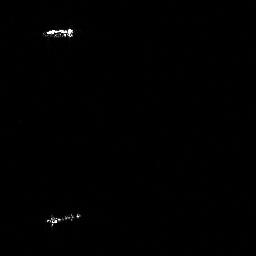ship: (46, 212, 79, 225), (43, 27, 74, 38)
